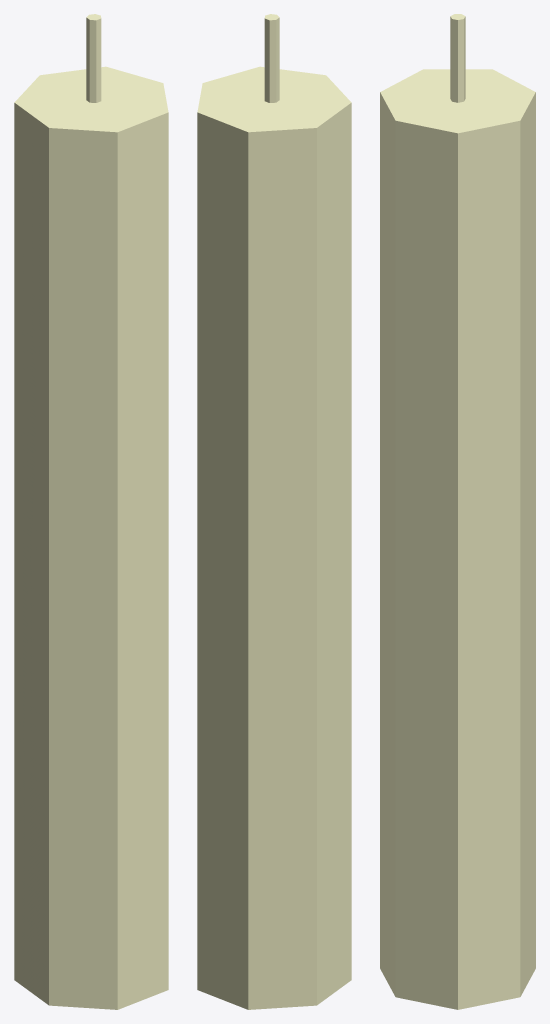
The model's file is candle.fbx.
3 views of the same model, side by side, from view 1: azimuth 30°, elevation 25°; view 2: azimuth 150°, elevation 25°; view 3: azimuth 270°, elevation 25° (orthographic).
Visible parts, largest first — view 1: candle; view 2: candle; view 3: candle.
Part boxes in pixels (<box>): candle: <box>14,14,168,1009</box>; candle: <box>197,14,351,1009</box>; candle: <box>380,14,535,1009</box>.
Bounding box in the file's own units: 0.0316 × 0.2206 × 0.0324.
